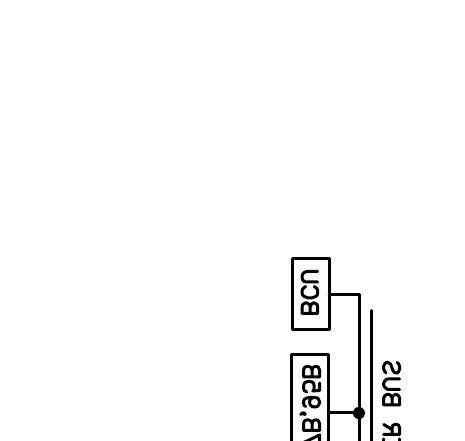BCU: (290, 256, 332, 332)
